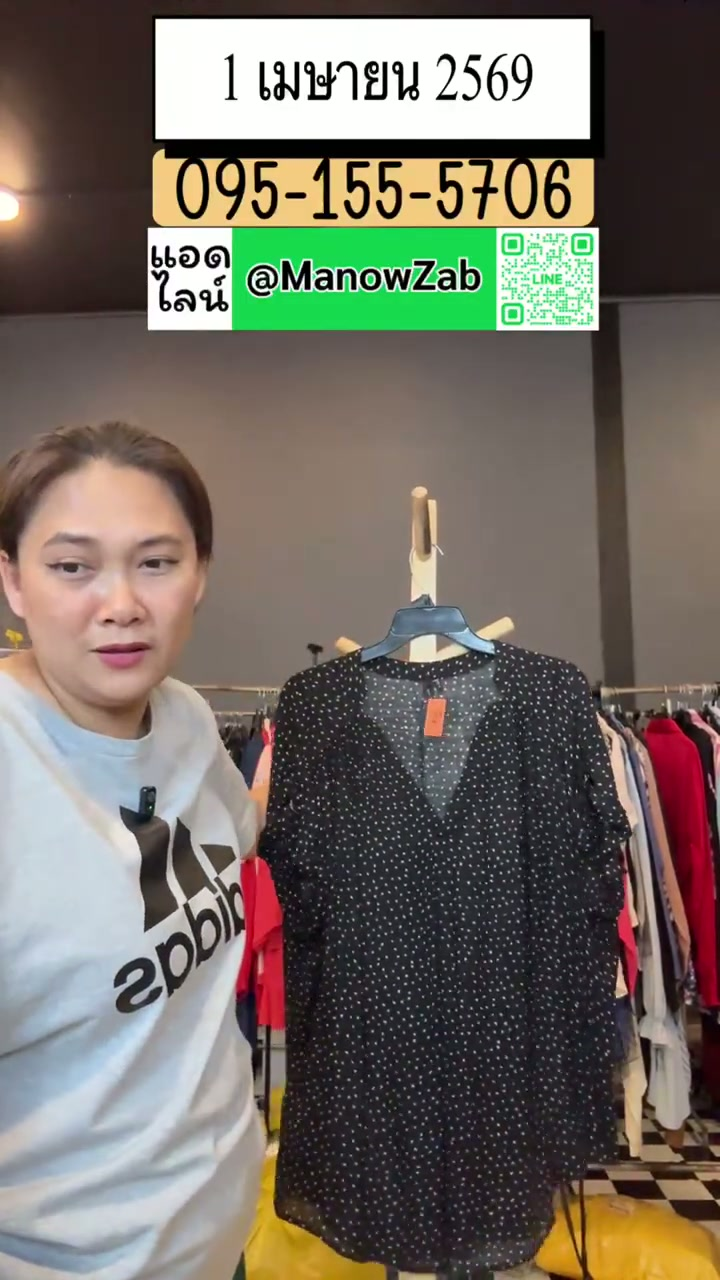display_shirt: (260, 643, 625, 1273)
